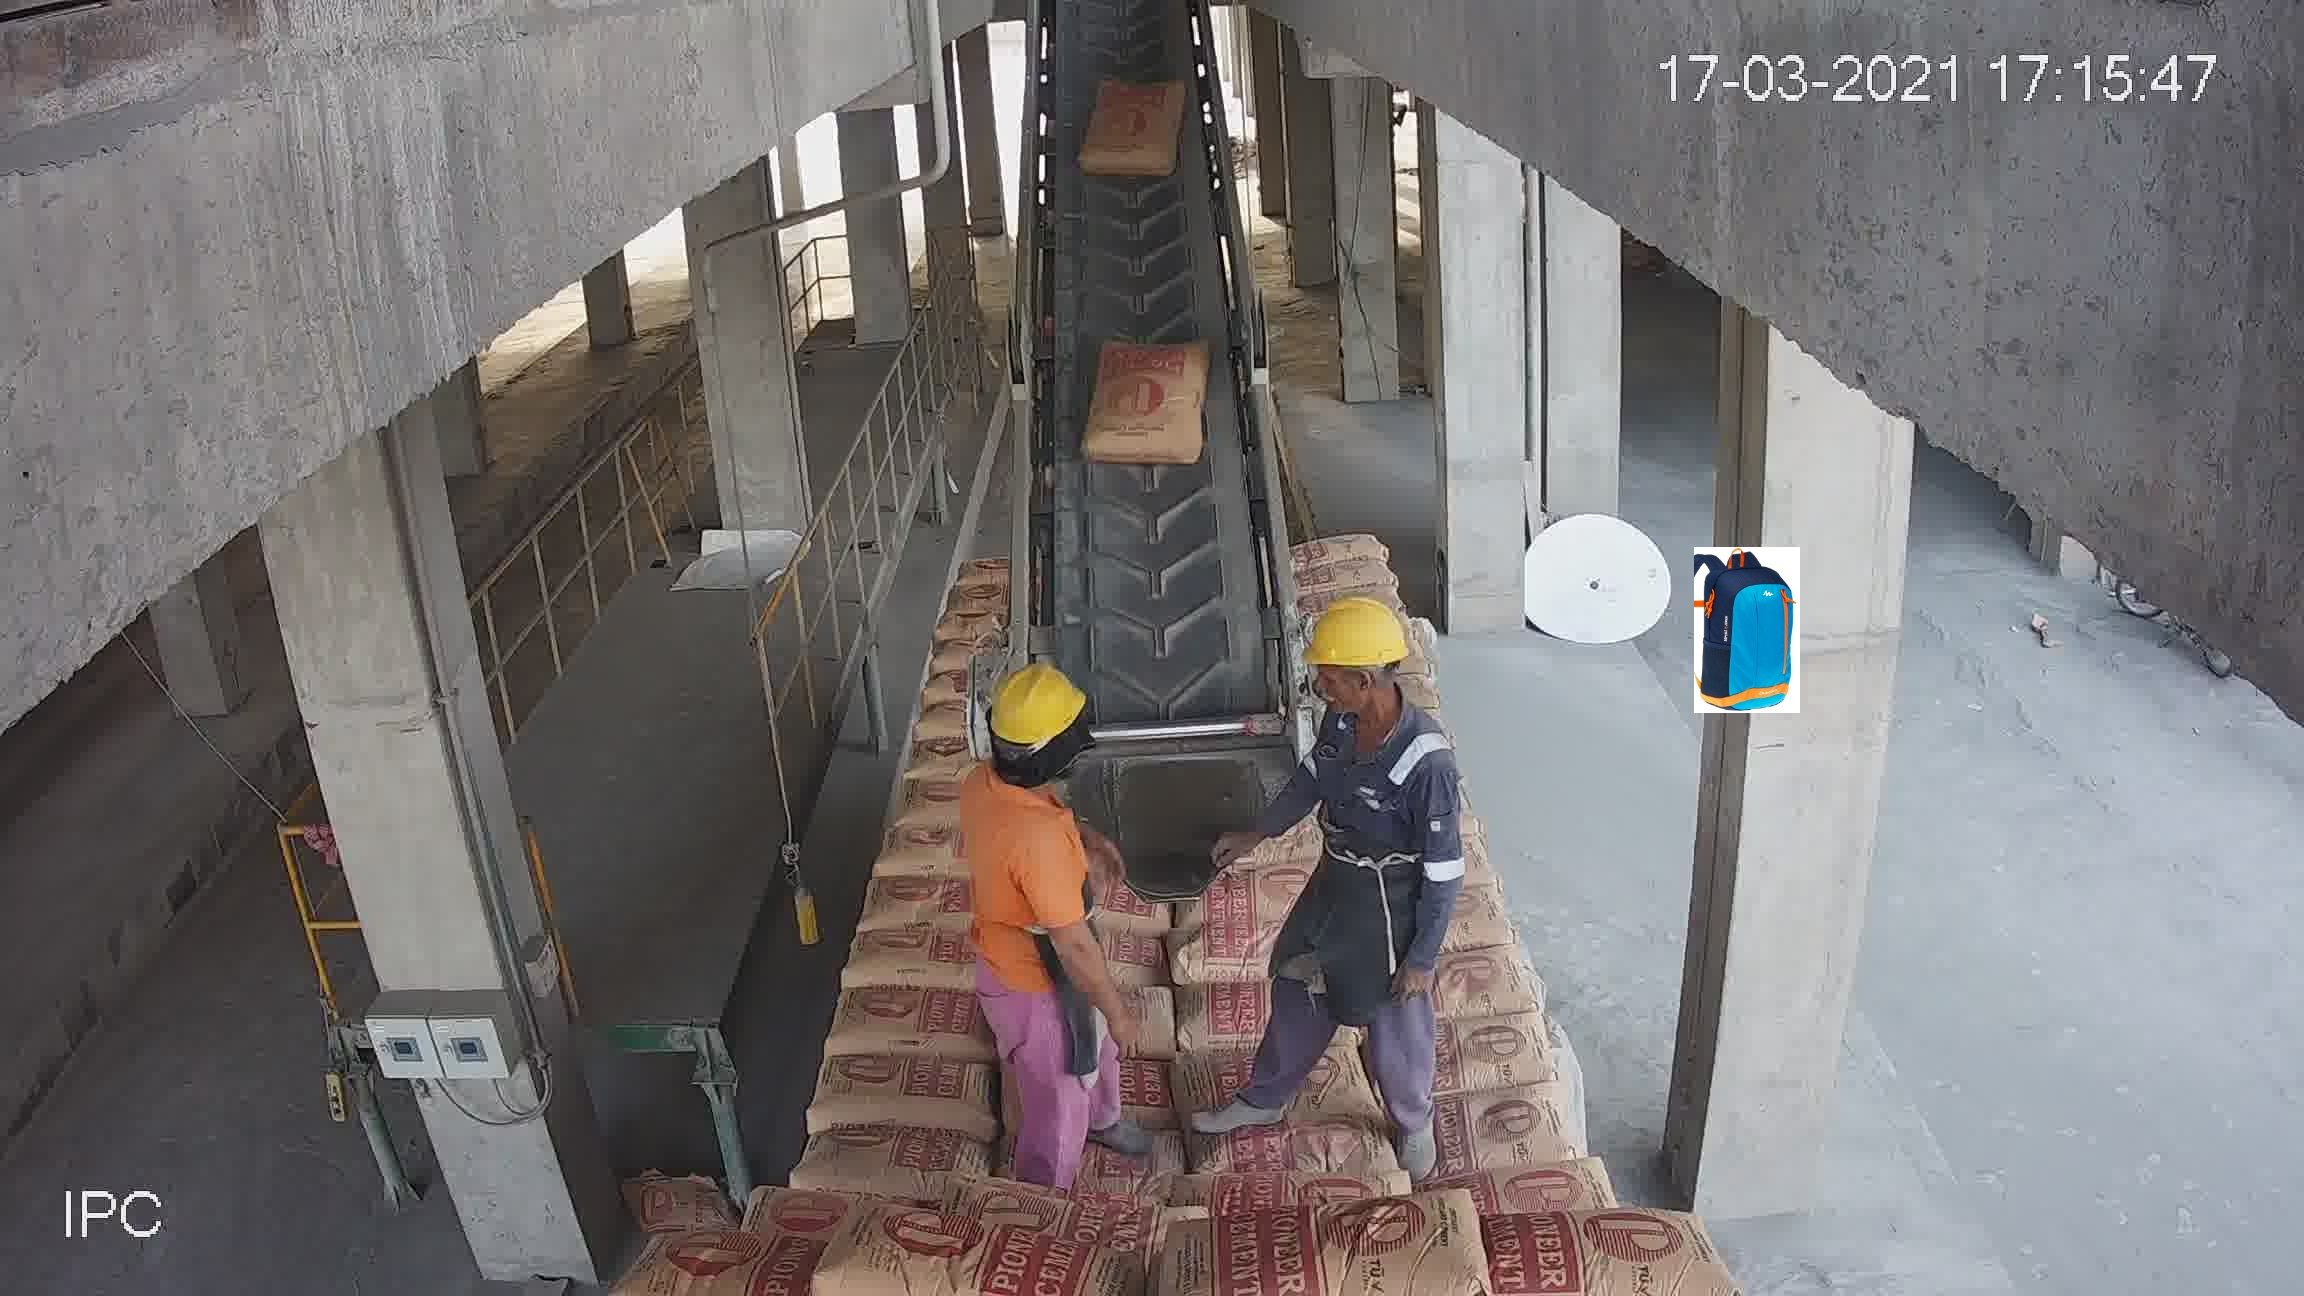bag: (1082, 342, 1214, 468), (1071, 82, 1188, 184)
bag_h: (1204, 1211, 1514, 1296), (812, 1222, 1112, 1296), (1445, 1203, 1692, 1290), (1168, 1036, 1362, 1124), (1404, 1016, 1584, 1109), (782, 1122, 980, 1206), (1407, 1084, 1582, 1174), (633, 1225, 851, 1296), (1391, 949, 1563, 1033), (801, 1055, 991, 1128), (820, 987, 984, 1067), (1174, 1161, 1408, 1215), (1438, 1161, 1609, 1223), (1190, 1116, 1394, 1165), (836, 927, 965, 992), (1301, 559, 1399, 598), (1294, 536, 1389, 562)
belt: (1006, 33, 1283, 870)
